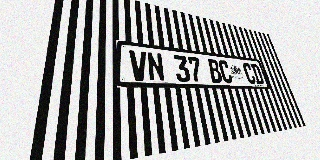3: (173, 55, 191, 82)
7: (187, 56, 204, 83)
B: (207, 59, 223, 83)
C: (218, 60, 234, 83), (242, 63, 257, 84)
D: (250, 63, 265, 84)
N: (146, 52, 165, 81)
V: (129, 50, 148, 81)
